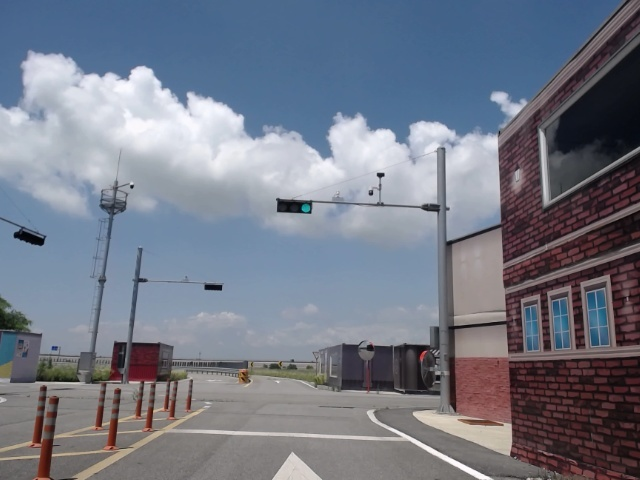green_3: (275, 198, 314, 213)
